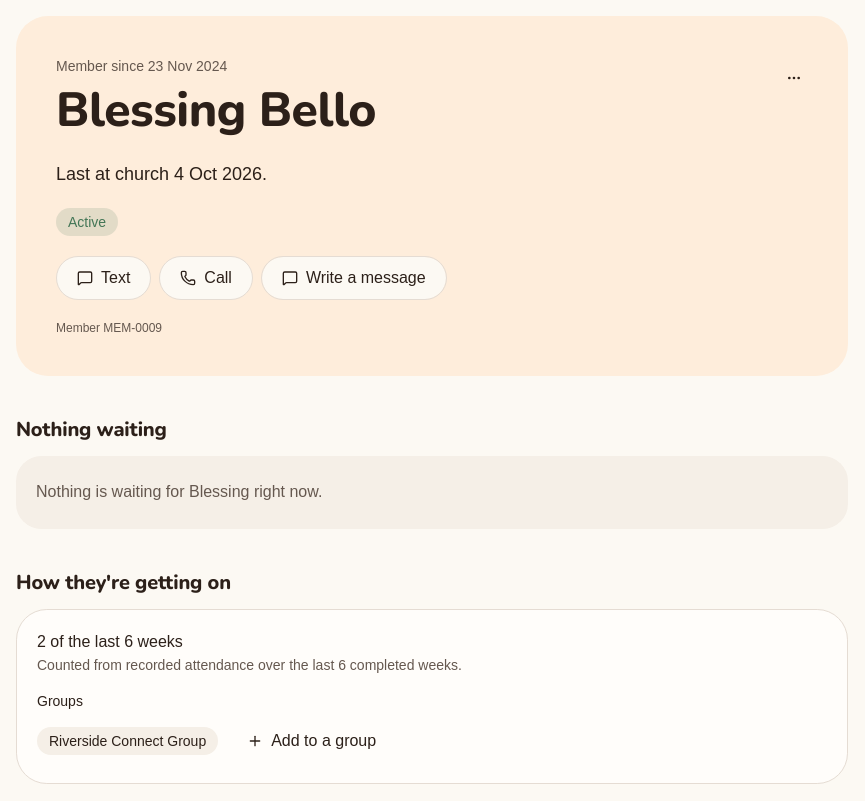
Test: MemberProfilePage › offers 'Edit details' to the administrator (M3) and nothing to a volunteer
Click the button named "More for " at (794, 78), box 772,56 -> 816,100
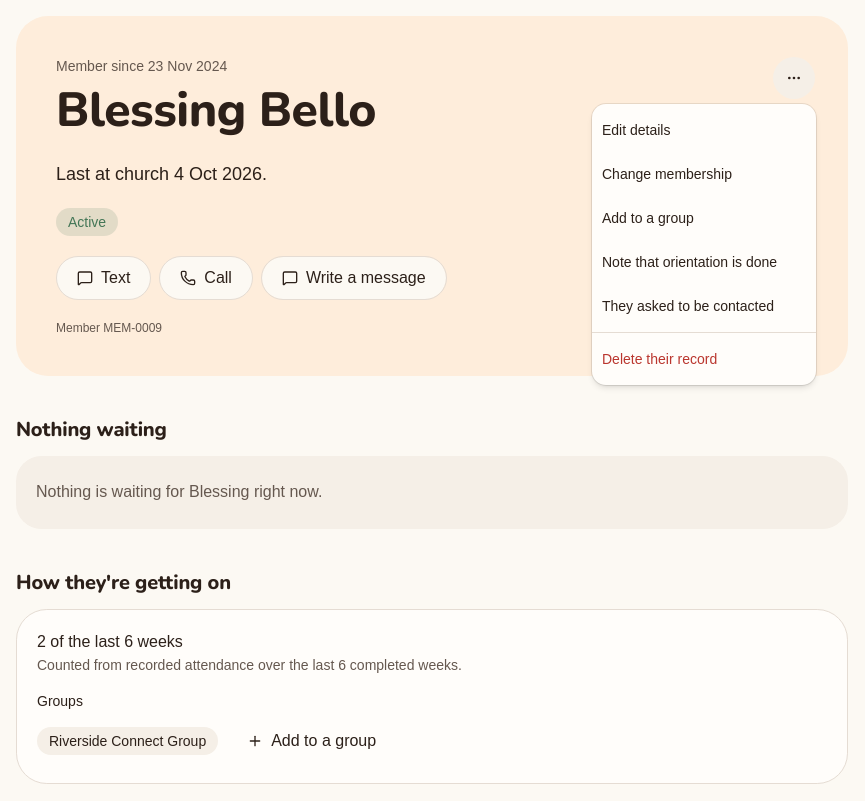
Check: the menu item "Edit details" is shown, box 602,122 -> 670,138
